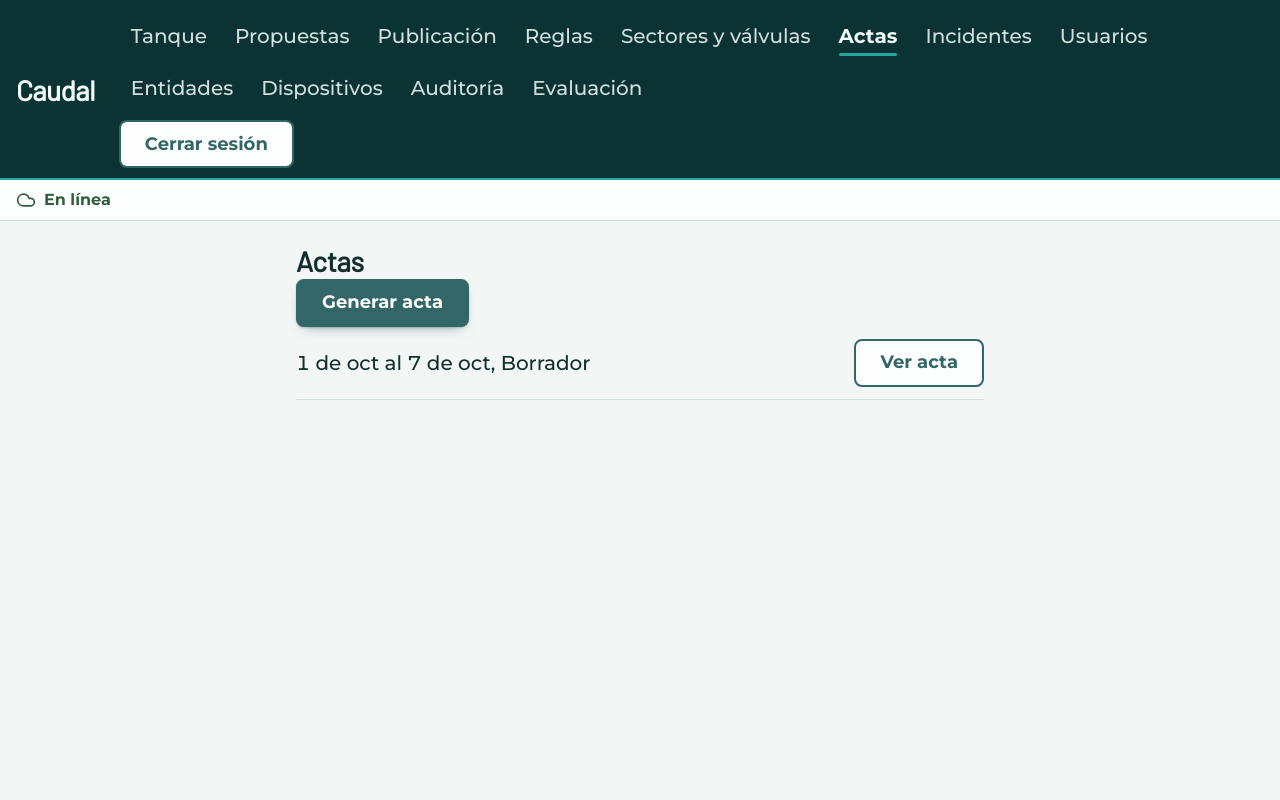
Test: MinutesPage (S20, board) › opens an acta and shows its four sections with their chips and plain sentences
Click the button "Ver acta": (919, 363) [854, 339, 984, 387]
(page scrolled)
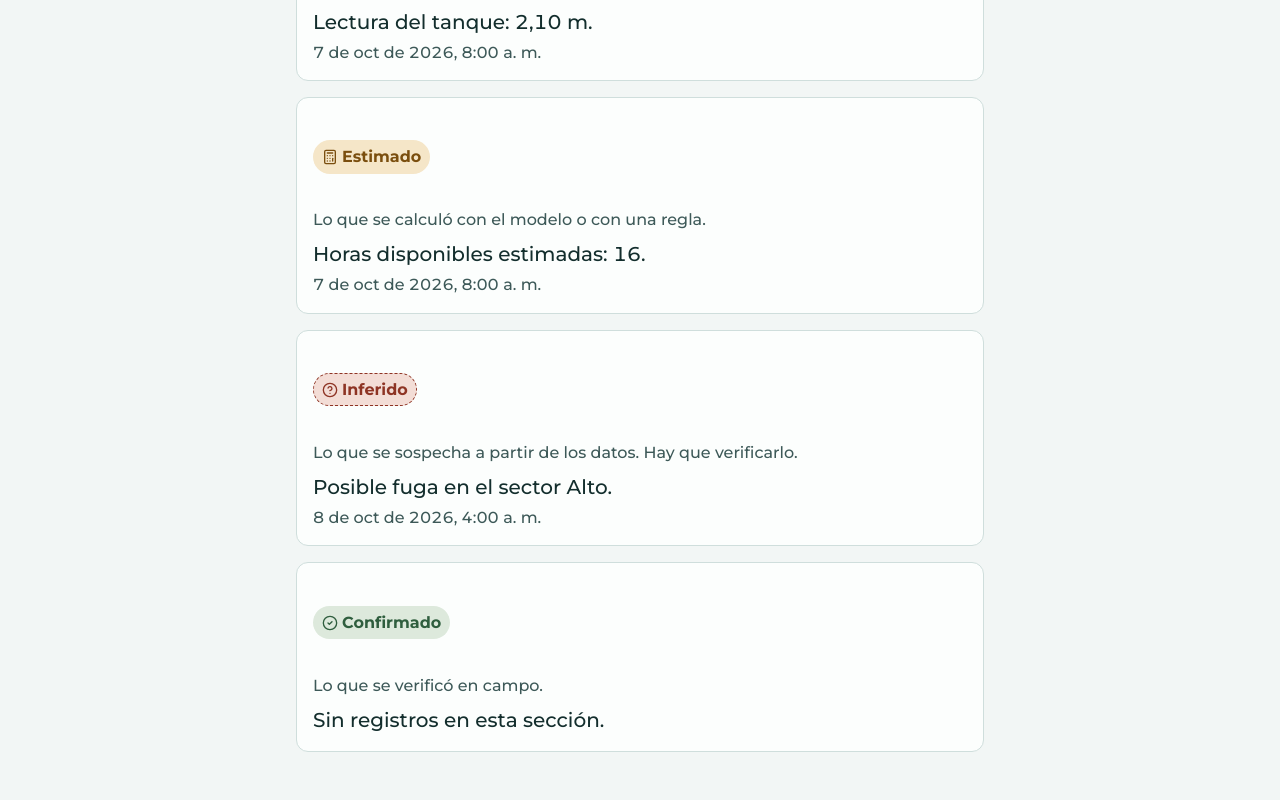
Check: the text "Lectura del tanque: 2,10 m." is shown, box [313, 10, 593, 34]
Check: the heading "Estimado" is shown, box [313, 140, 430, 174]
Check: the heading "Inferido" is shown, box [313, 373, 417, 406]
